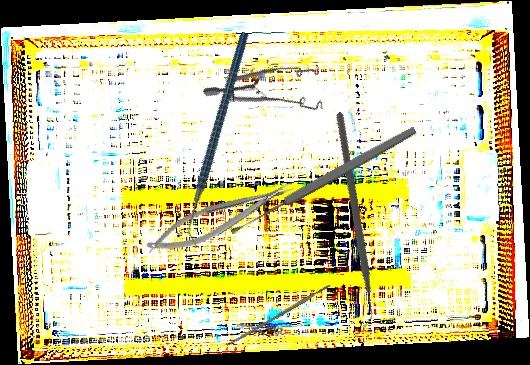Chopper: (243, 111, 458, 331), (125, 31, 314, 249)
Needle Holder: (140, 174, 301, 263)
Scalpel Handle: (225, 283, 333, 348)
Speculum: (202, 34, 338, 156)
Surgical Spoon: (228, 123, 418, 238)
